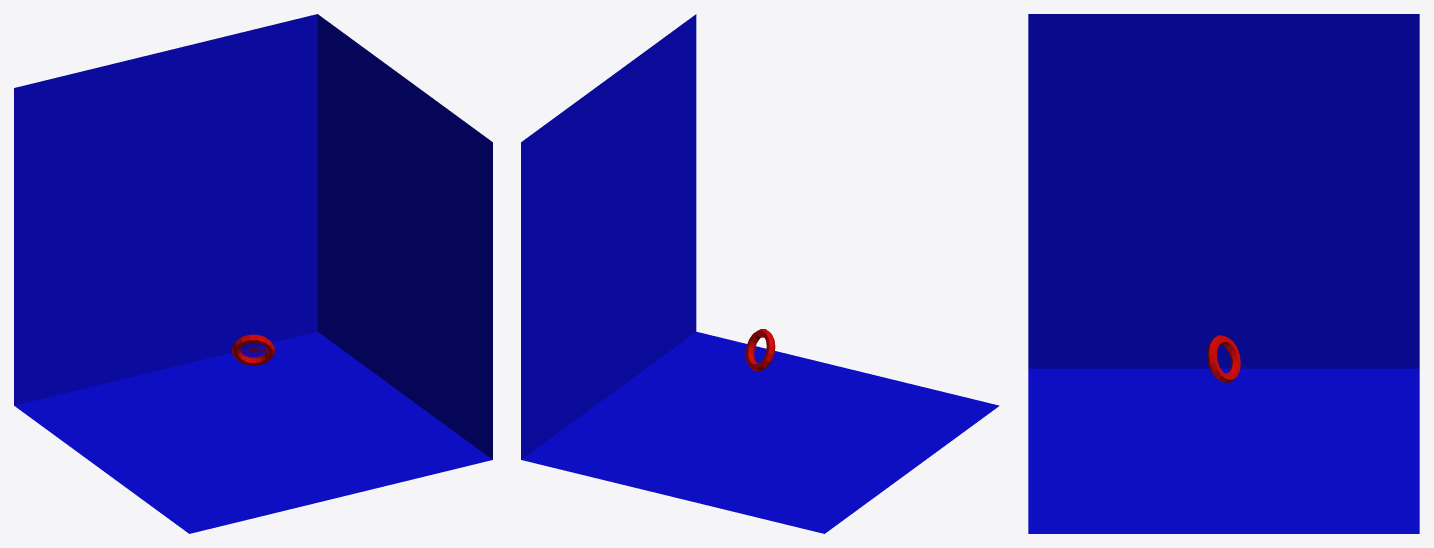
3 views of the same model, side by side, from view 1: azimuth 30°, elevation 25°; view 2: azimuth 150°, elevation 25°; view 3: azimuth 270°, elevation 25° (orthographic). The views are drawn at different scales.
Parts seen in each view (by area): view 1: Cube, Wheel; view 2: Cube, Wheel; view 3: Cube, Wheel.
Part boxes in pixels (<box>): Cube: <box>14,14,492,533</box>; Wheel: <box>232,334,274,365</box>; Cube: <box>521,14,999,533</box>; Wheel: <box>745,329,775,371</box>; Cube: <box>1028,14,1419,533</box>; Wheel: <box>1207,335,1240,382</box>.
Bounding box in the file's own units: 20 × 20 × 20.
